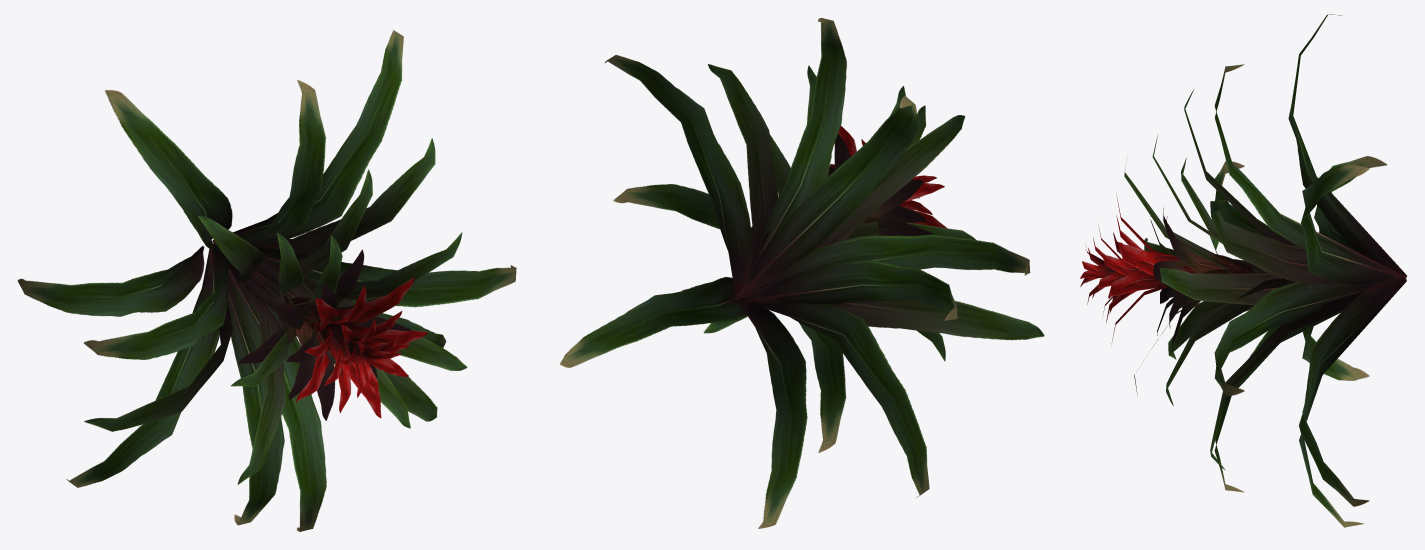
The model's file is Pl_Shrub1.glb.
3 views of the same model, side by side, from view 1: azimuth 30°, elevation 25°; view 2: azimuth 150°, elevation 25°; view 3: azimuth 270°, elevation 25° (orthographic). The views are drawn at different scales.
Parts seen in each view (by area): view 1: trop_shrub_01; view 2: trop_shrub_01; view 3: trop_shrub_01.
Boxes of the visible parts, bbox=[...] form: trop_shrub_01: bbox=[17, 30, 516, 531]; trop_shrub_01: bbox=[560, 18, 1044, 528]; trop_shrub_01: bbox=[1080, 14, 1406, 527].
Size of the model in its own units: 1.35 by 1.4 by 0.911.
1 material, 1 textured.
